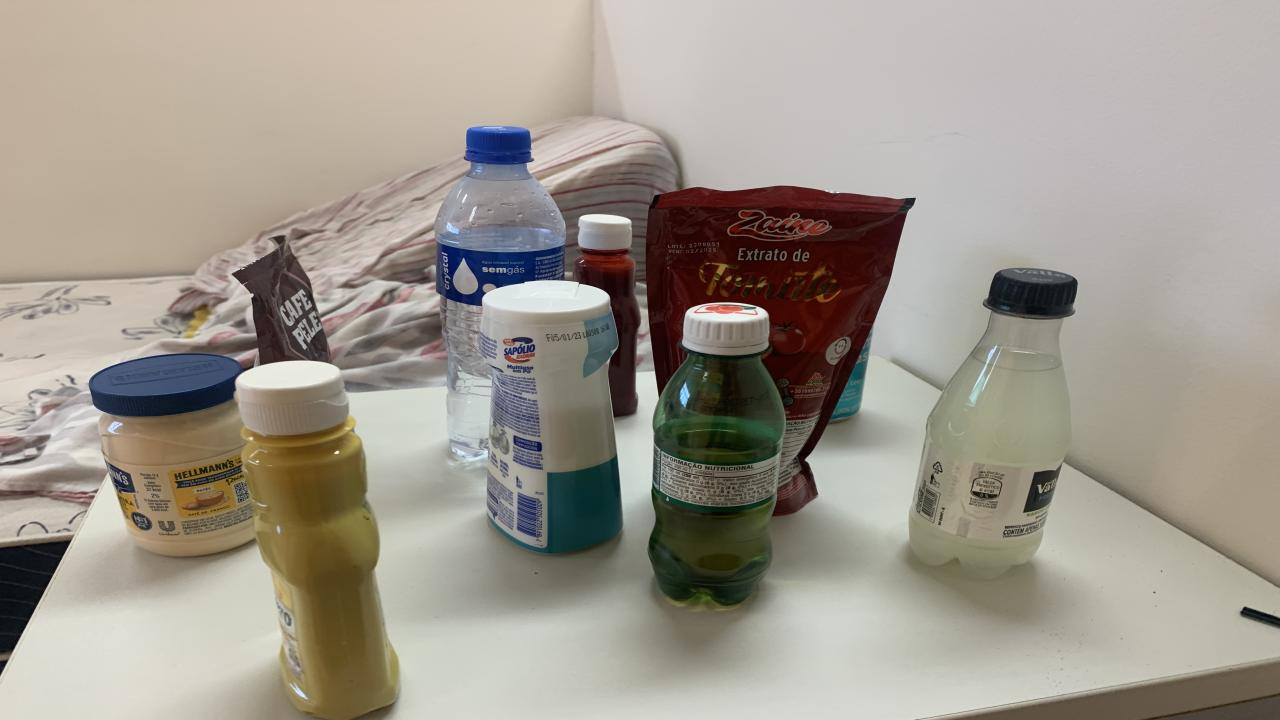Cleaner-Cleanup_Items: (478, 279, 622, 553)
Coffee-Pantry_Items: (232, 236, 330, 364), (232, 236, 330, 364)
Guarana-Drinks: (648, 302, 785, 606)
Ketchup-Pantry_Items: (575, 214, 642, 416)
Mayonnaise-Pantry_Items: (90, 354, 255, 557)
Mustard-Pantry_Items: (235, 360, 398, 718)
Soda-Drinks: (910, 268, 1078, 578)
Tea-Drinks: (830, 330, 872, 424)
Tomato_Sauce-Pantry_Items: (648, 188, 912, 514)
Water_Bottle-Drinks: (435, 128, 565, 459)
